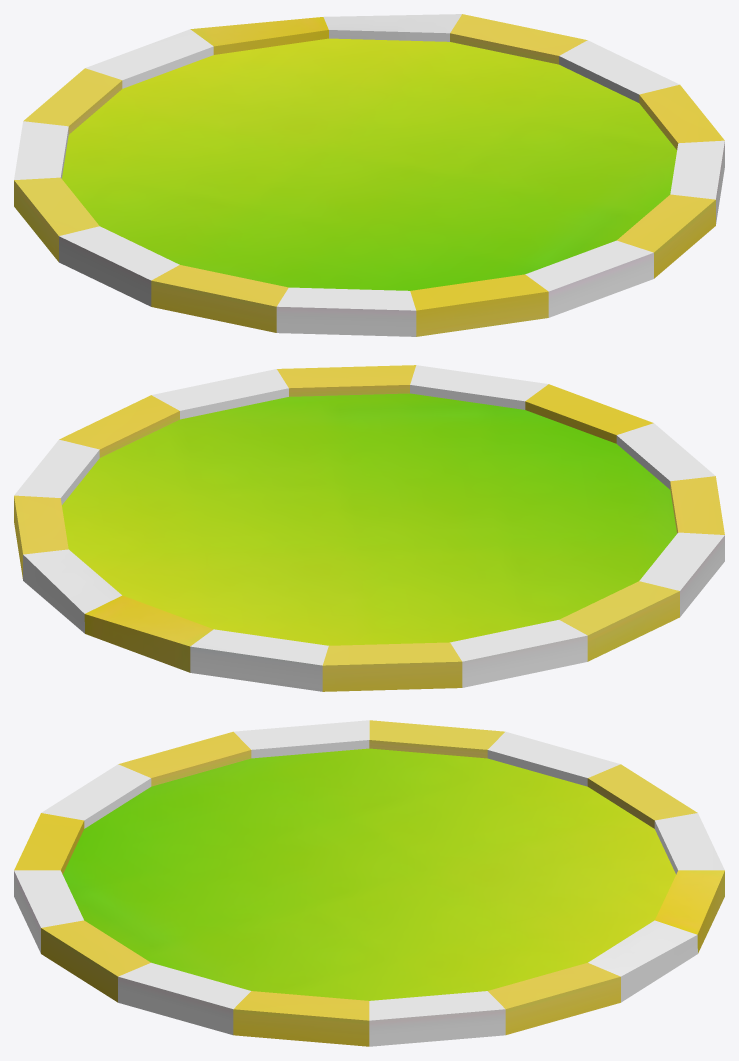
File: Stomach_3.fbx
3 renders of one model, top to bottom at view 1: azimuth 30°, elevation 25°; view 2: azimuth 150°, elevation 25°; view 3: azimuth 270°, elevation 25°, orthographic.
Parts seen in each view (by area): view 1: Stomach_3; view 2: Stomach_3; view 3: Stomach_3.
Part boxes in pixels (<box>): Stomach_3: <box>14,14,724,336</box>; Stomach_3: <box>14,365,724,691</box>; Stomach_3: <box>14,720,724,1046</box>.
Size of the model in its own units: 1224 by 49.58 by 1224.
Materials: 1 (1 with a texture image).
